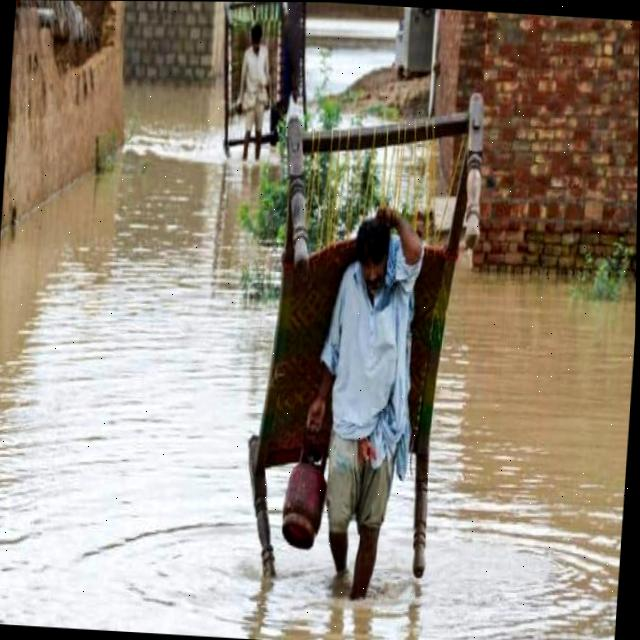civilian: (286, 202, 431, 619), (231, 21, 280, 181)
